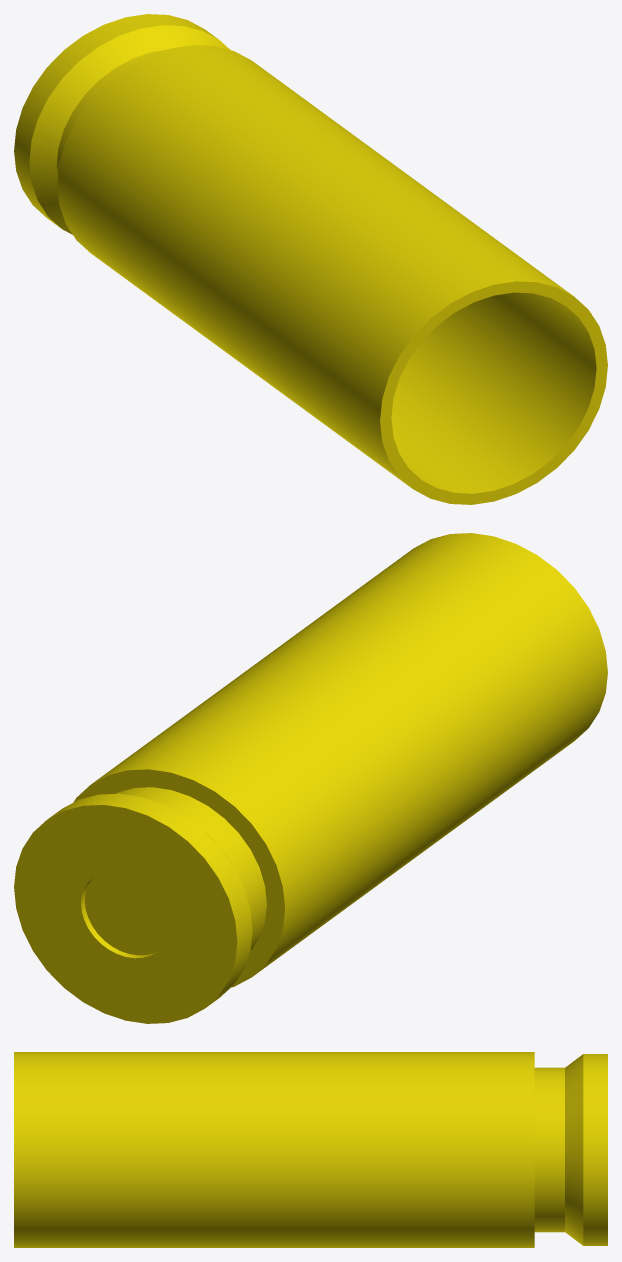
Rendered from Sleeve_1.fbx.
3 renders of one model, top to bottom at view 1: azimuth 30°, elevation 25°; view 2: azimuth 150°, elevation 25°; view 3: azimuth 270°, elevation 25°, orthographic. The views are drawn at different scales.
Parts seen in each view (by area): view 1: Pistol_Sleeve; view 2: Pistol_Sleeve; view 3: Pistol_Sleeve.
Part boxes in pixels (box(x1,y1,x2,y2)): Pistol_Sleeve: box(14, 14, 607, 504); Pistol_Sleeve: box(14, 533, 607, 1023); Pistol_Sleeve: box(14, 1052, 607, 1247).
Bounding box in the file's own units: 3.47 × 3.15 × 9.7.
